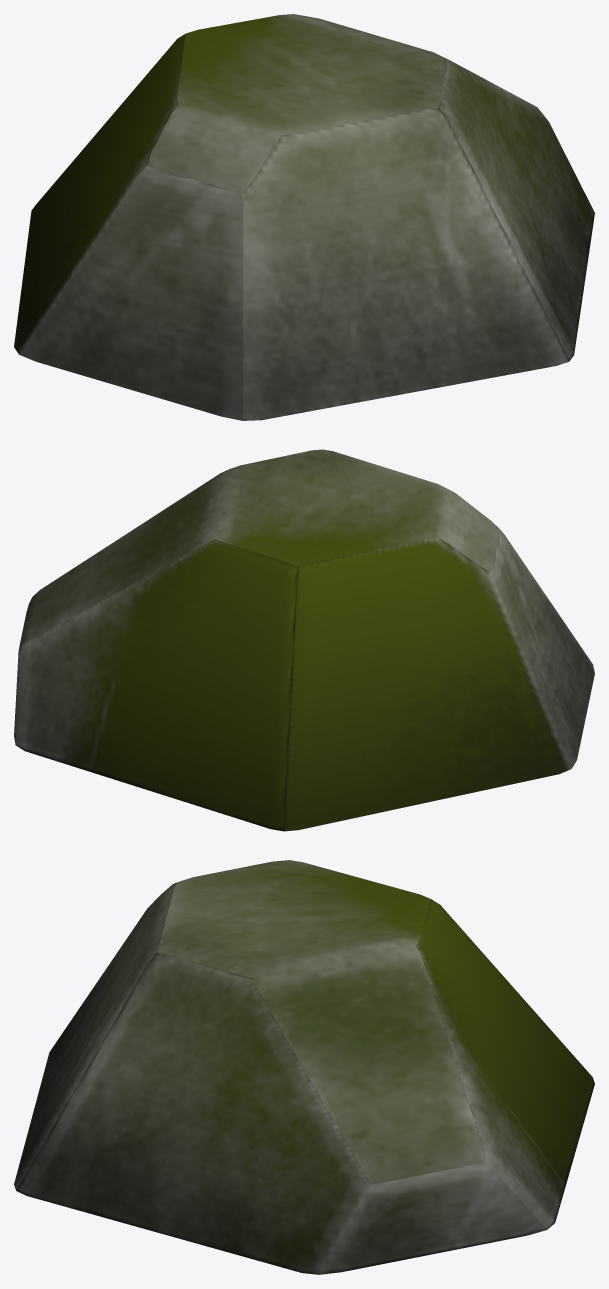
File: rock3_unity.fbx
3 renders of one model, top to bottom at view 1: azimuth 30°, elevation 25°; view 2: azimuth 150°, elevation 25°; view 3: azimuth 270°, elevation 25°, orthographic. The views are drawn at different scales.
Parts seen in each view (by area): view 1: Object005; view 2: Object005; view 3: Object005.
Part boxes in pixels (x1,y1,x2,y2): Object005: [14, 14, 594, 420]; Object005: [14, 449, 594, 831]; Object005: [14, 860, 594, 1274].
Size of the model in its own units: 30.07 by 26.62 by 10.85.
1 material, 1 textured.
